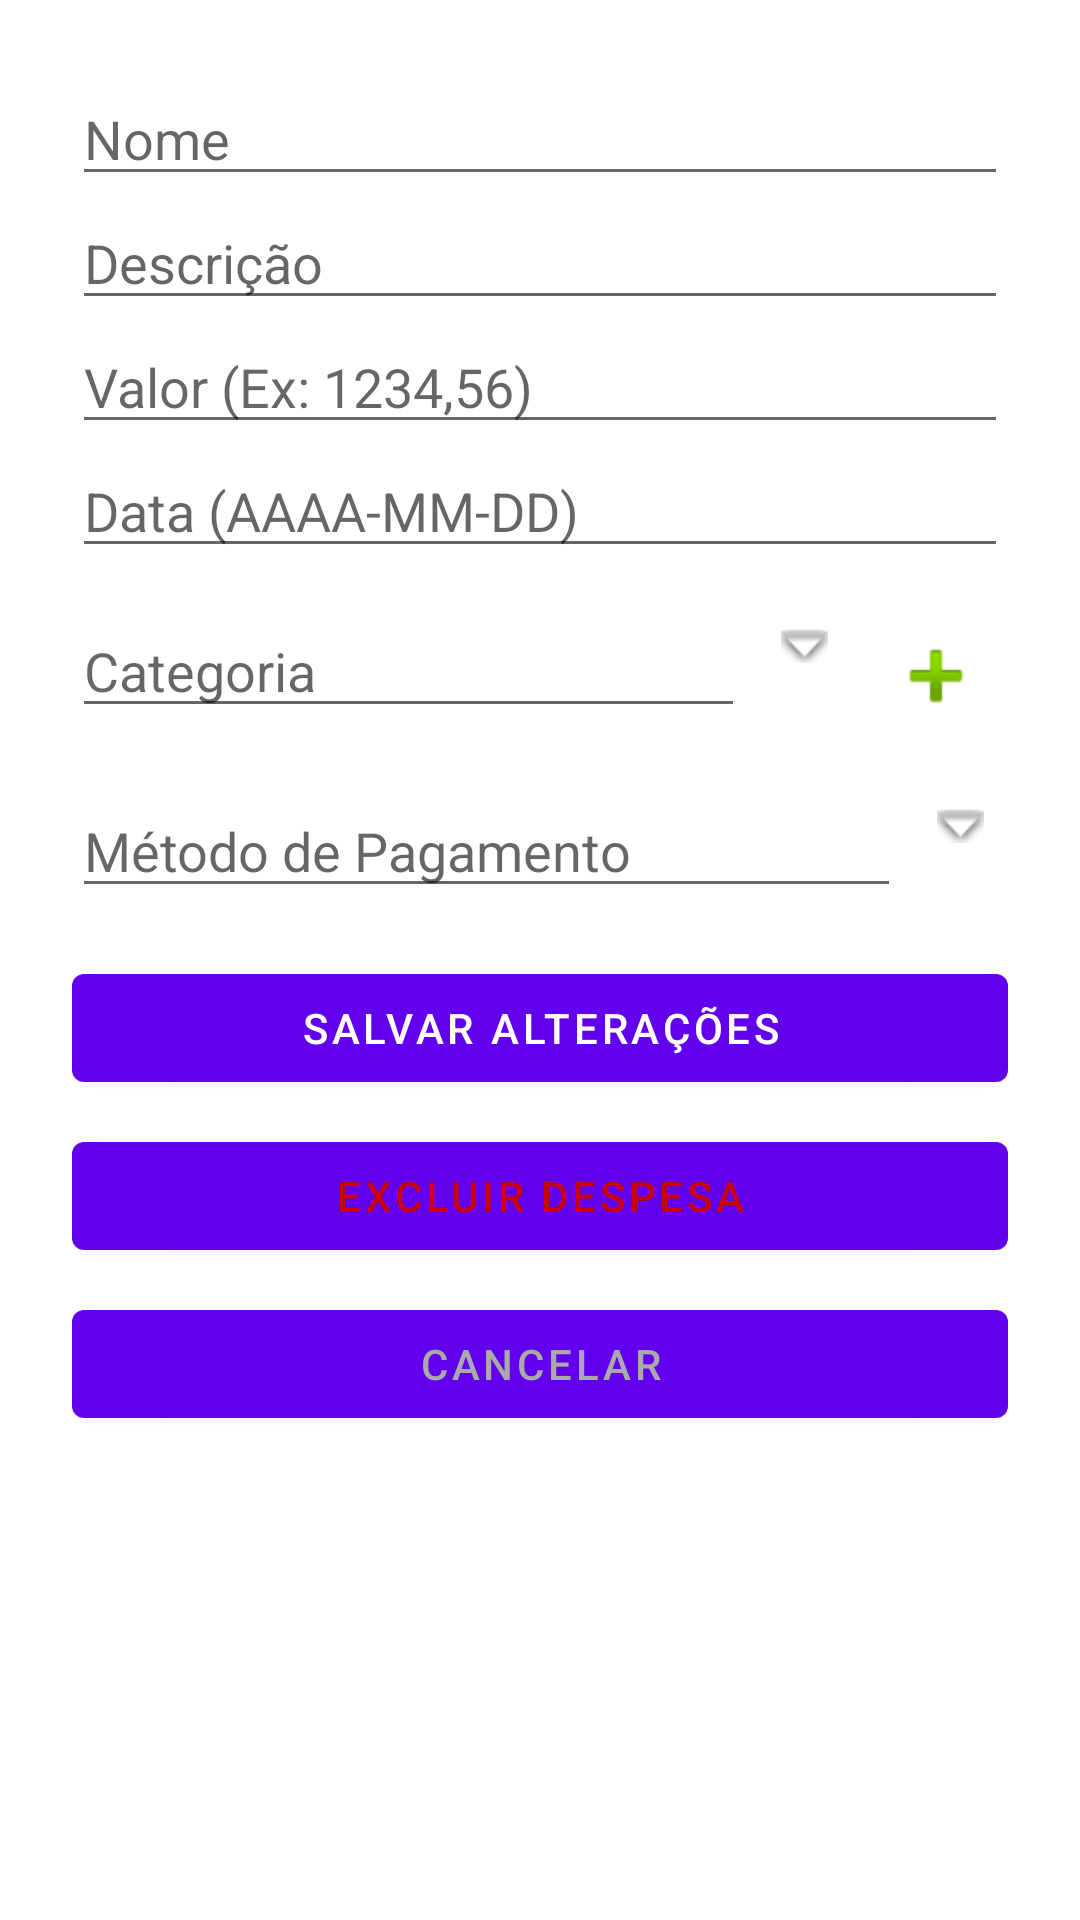

Screen size 1080 × 1920. Icon name, then its center in pixels as point (x, y):
Exibir métodos de pagamento: point (960, 826)
